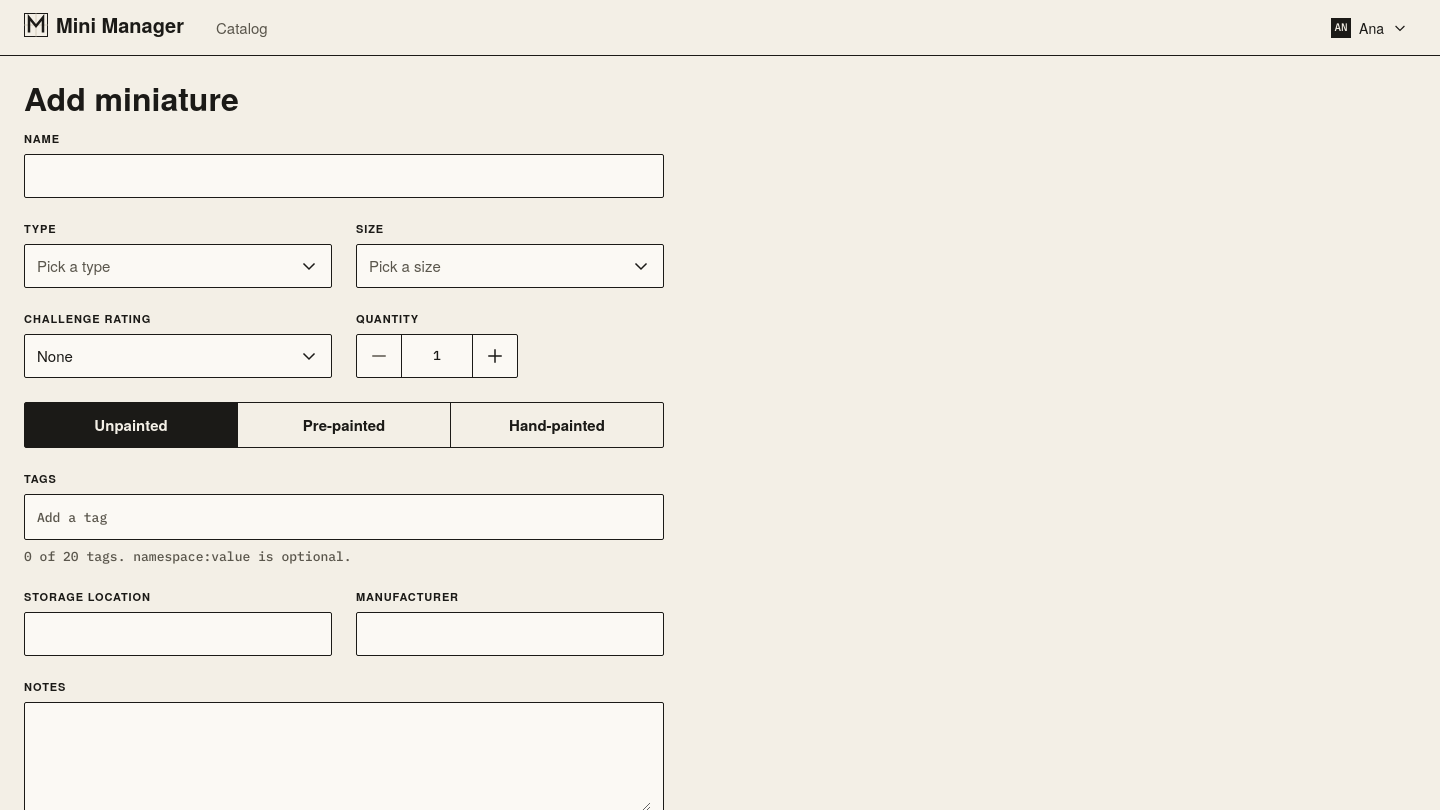
Test: MiniatureFormPage › card 6: the tag field suggests the tags already in use
In the dropdown labelled "Tags": (344, 517) [37,503,651,531], type "gob"
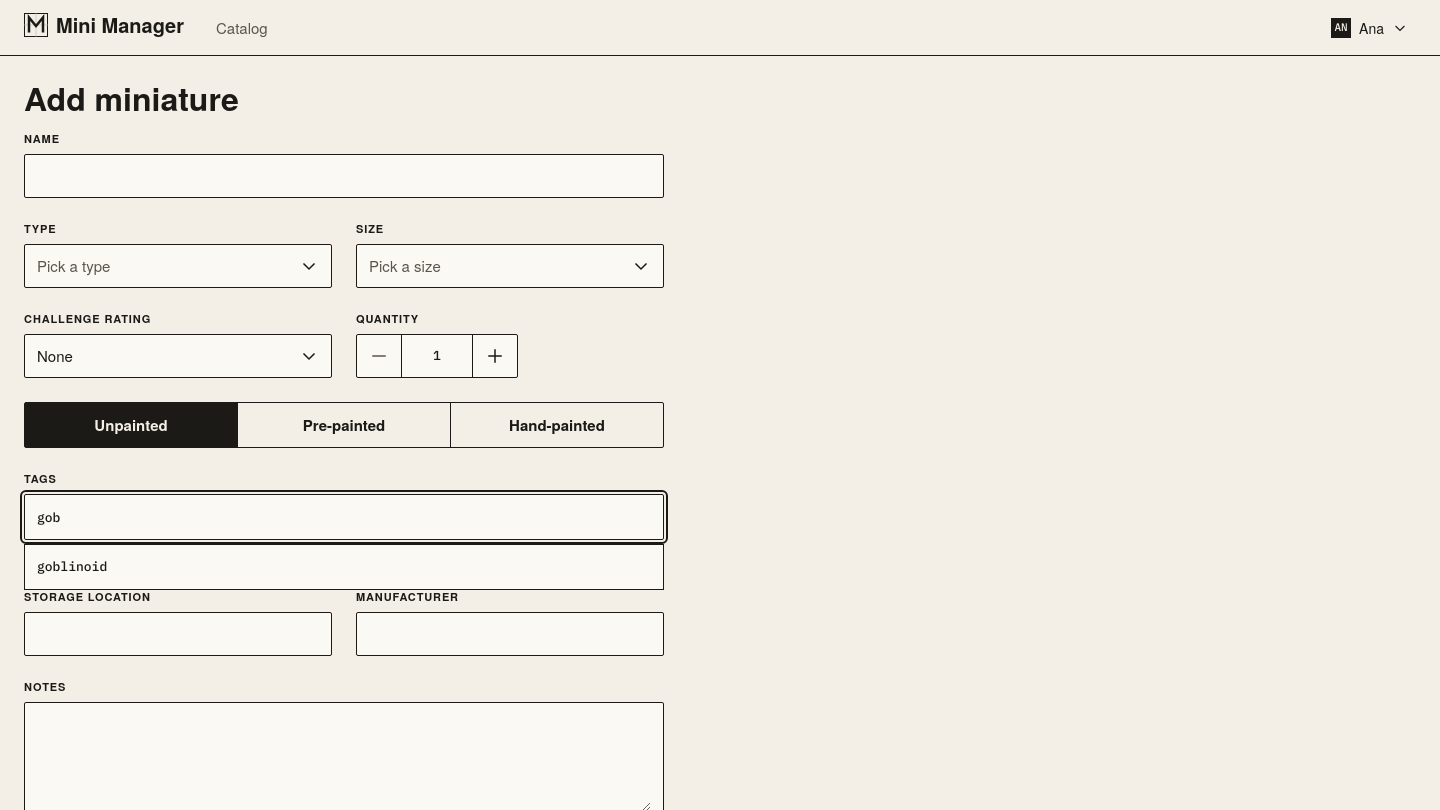
Check: the option "goblinoid" is shown, box [37,558,107,575]
